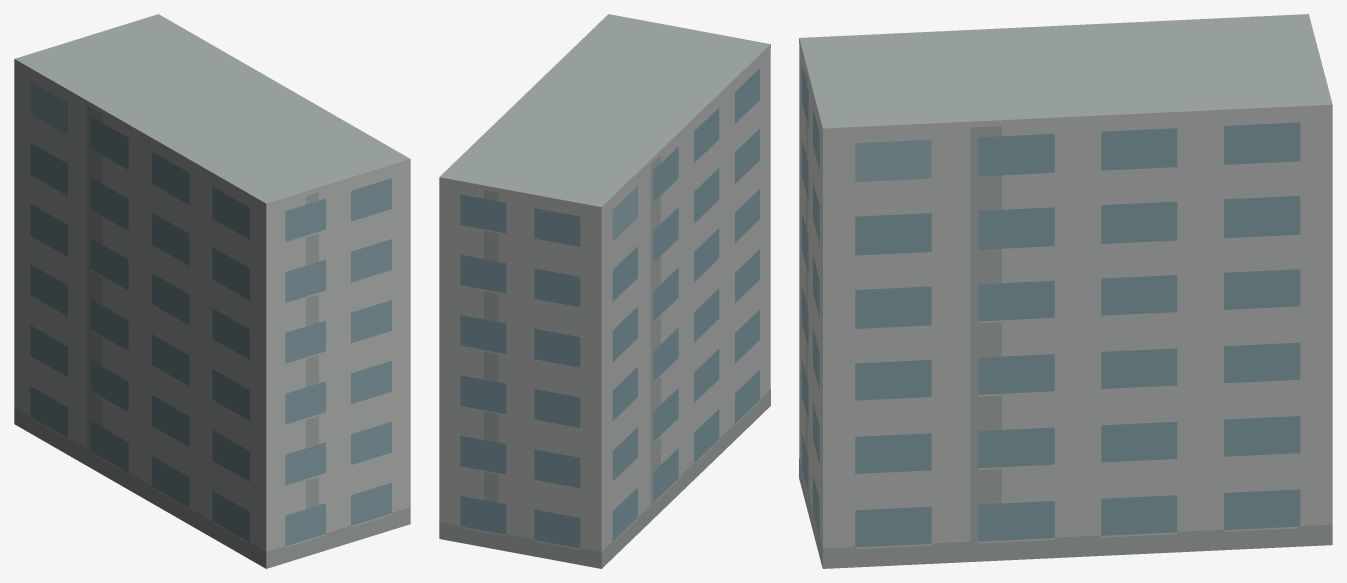
Rendered from residential-127463f6-2f3f-4184-bcd4-f401f9b37db2.glb.
3 views of the same model, side by side, from view 1: azimuth 30°, elevation 25°; view 2: azimuth 150°, elevation 25°; view 3: azimuth 270°, elevation 25° (orthographic). The views are drawn at different scales.
Visible parts, largest first — view 1: residential-127463f6-2f3f-4184-bcd4-f401f9b37db2.tmp; view 2: residential-127463f6-2f3f-4184-bcd4-f401f9b37db2.tmp; view 3: residential-127463f6-2f3f-4184-bcd4-f401f9b37db2.tmp.
Part boxes in pixels (x1,y1,x2,y2): residential-127463f6-2f3f-4184-bcd4-f401f9b37db2.tmp: (14, 14, 410, 568); residential-127463f6-2f3f-4184-bcd4-f401f9b37db2.tmp: (439, 14, 770, 568); residential-127463f6-2f3f-4184-bcd4-f401f9b37db2.tmp: (799, 14, 1332, 568).
Size of the model in its own units: 10.21 by 18.3 by 20.11.
